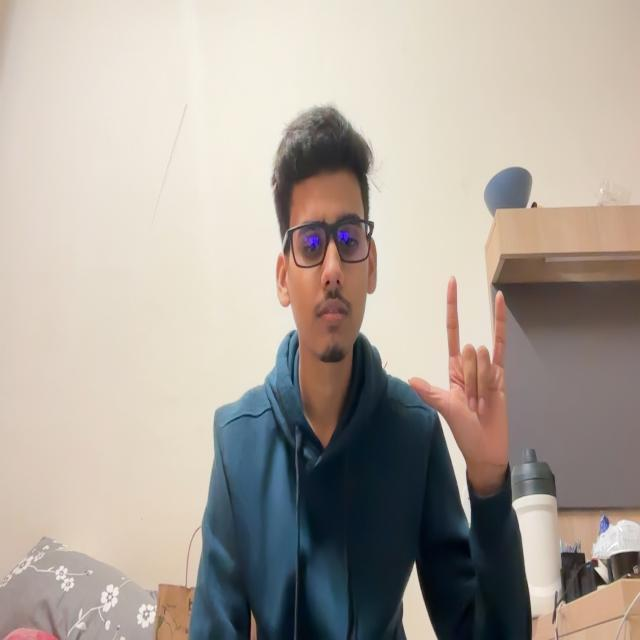Iloveyou: (404, 252, 524, 461)
